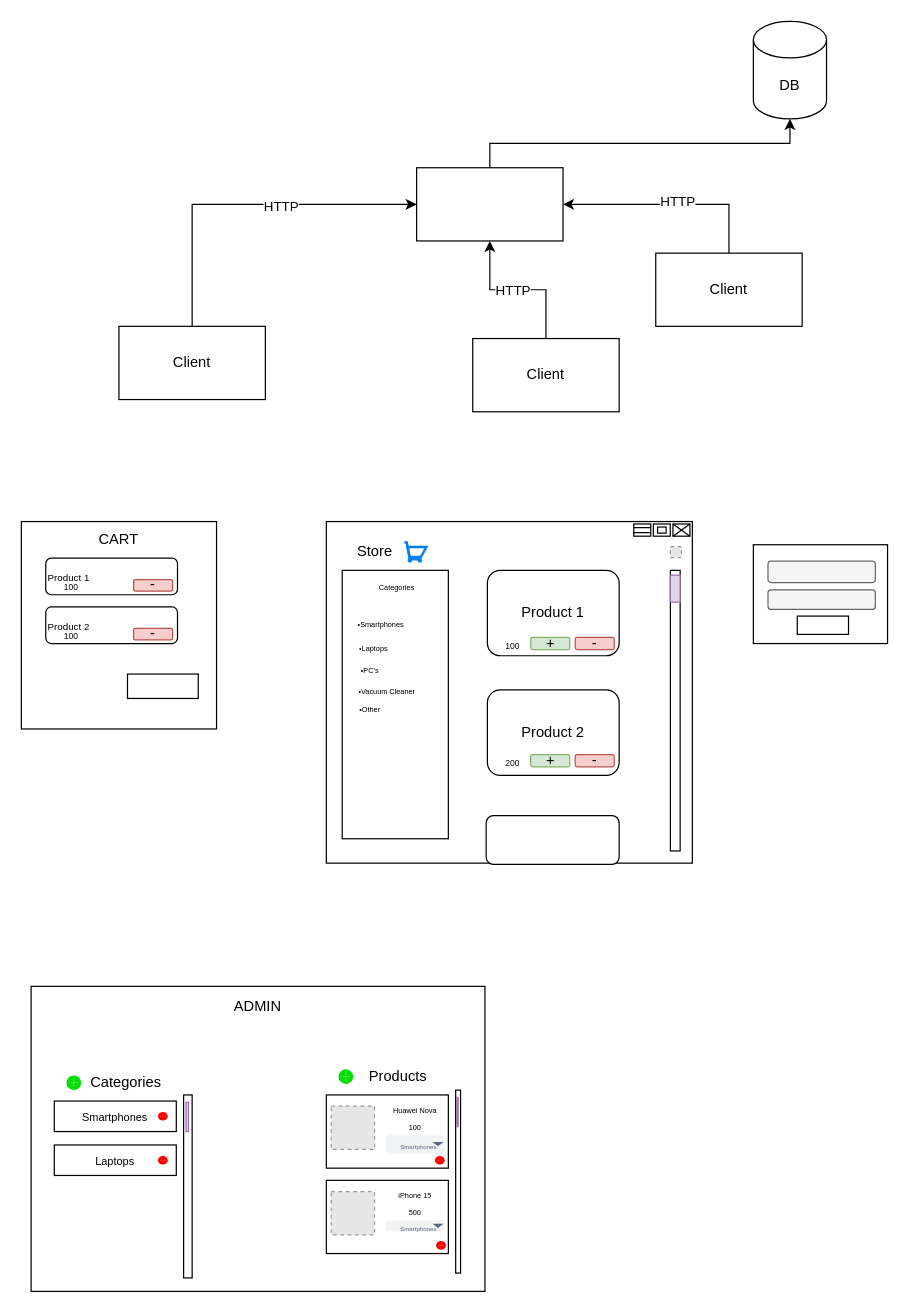
The diagram is 909 pixels wide and 1313 high, and some of its shapes have lost their labels. Grey dashed boxes stand in for pictures. The shapes that lost their labels are listed below. From the top down, each one's centre as x and y in pixels, then its label:
At point (489, 204): "Server".
At point (822, 624): "login".
At point (162, 685): "Buy".
